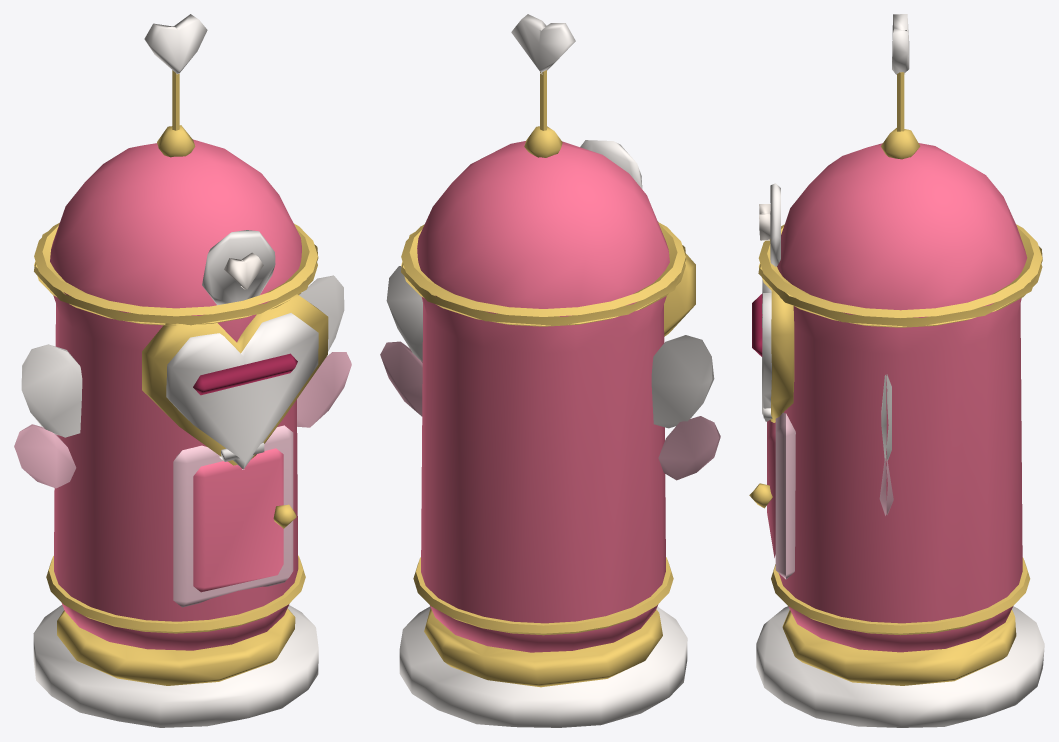
Rendered from lite_mailbox_heart.glb.
The picture shows the model from 3 angles, left to right: view 1: azimuth 30°, elevation 25°; view 2: azimuth 150°, elevation 25°; view 3: azimuth 270°, elevation 25°; orthographic projection.
Visible parts, largest first — view 1: mailbox_heart; view 2: mailbox_heart; view 3: mailbox_heart.
Part boxes in pixels (bbox=[...]): mailbox_heart: bbox=[14, 14, 351, 727]; mailbox_heart: bbox=[380, 14, 720, 727]; mailbox_heart: bbox=[749, 14, 1044, 727].
Size of the model in its own units: 1.13 by 2.06 by 0.8523.
